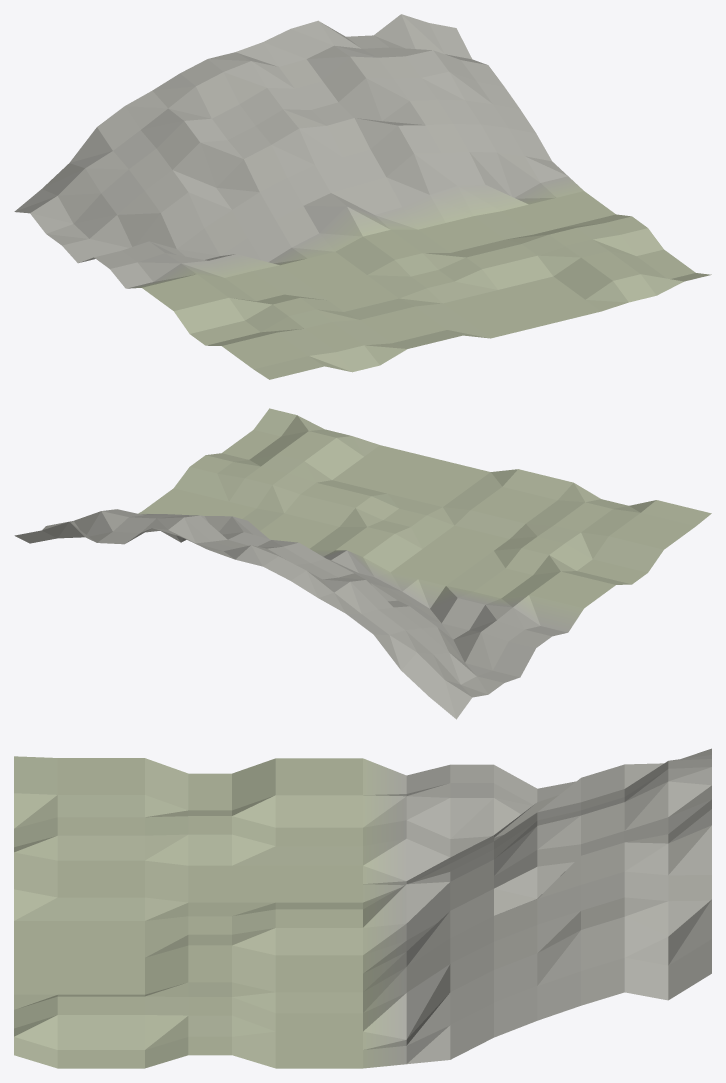
3 views of the same model, one above another, from view 1: azimuth 30°, elevation 25°; view 2: azimuth 150°, elevation 25°; view 3: azimuth 270°, elevation 25° (orthographic). The views are drawn at different scales.
Bounding box in the file's own units: 32 × 8.43 × 32.
